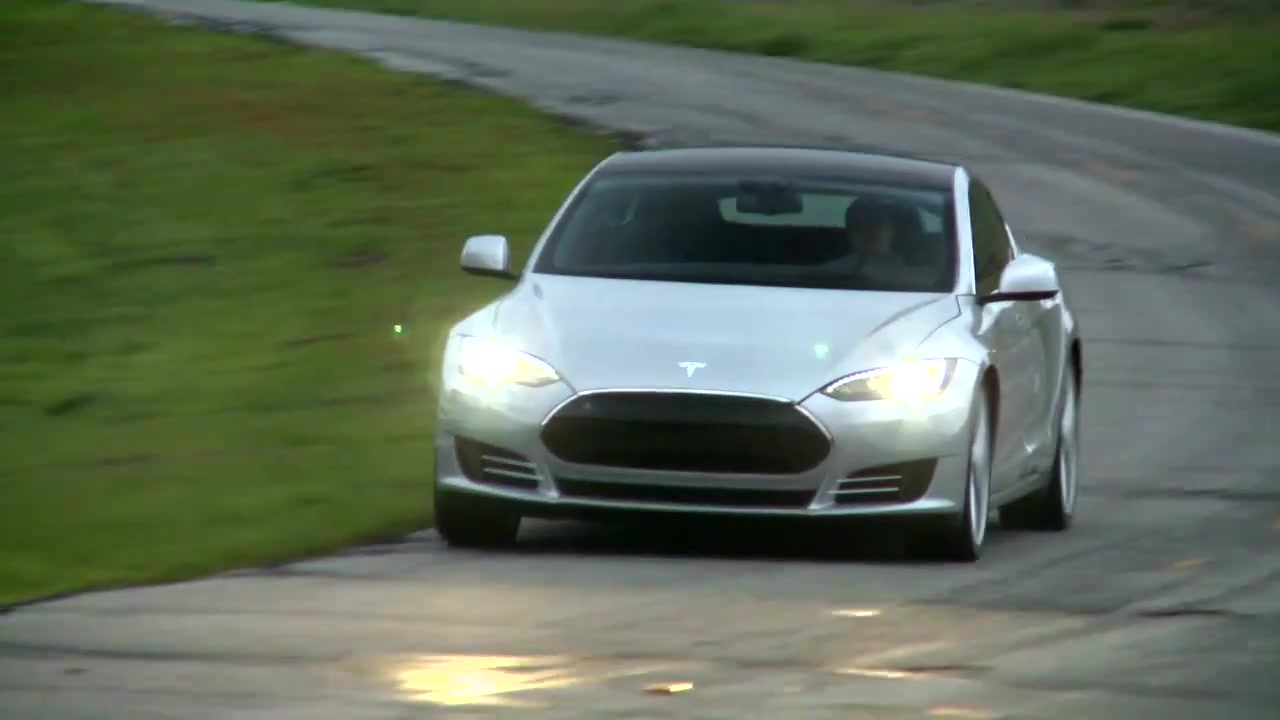car: (431, 133, 1089, 567)
